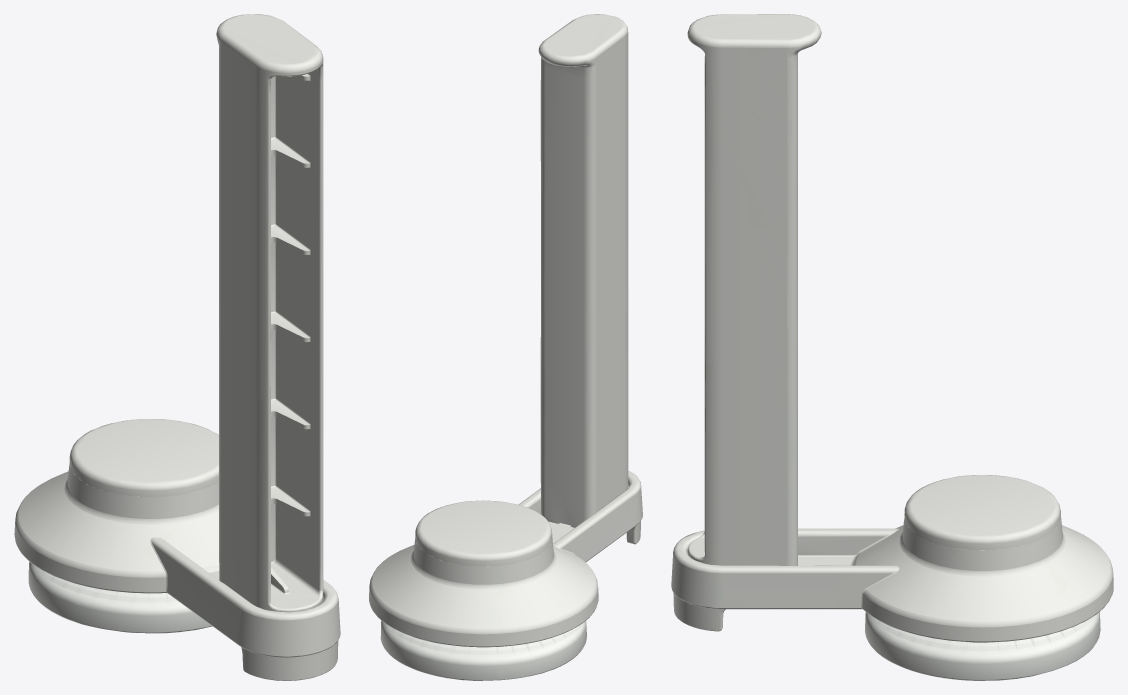
Rendered from 40381291-mini.glb.
3 views of the same model, side by side, from view 1: azimuth 30°, elevation 25°; view 2: azimuth 150°, elevation 25°; view 3: azimuth 270°, elevation 25° (orthographic). The views are drawn at different scales.
Parts seen in each view (by area): view 1: 1; view 2: 1, 2; view 3: 1.
Part boxes in pixels (x1=…): 1: x1=14, y1=14, x2=340, y2=680; 1: x1=369, y1=14, x2=642, y2=680; 2: x1=392, y1=629, x2=574, y2=654; 1: x1=671, y1=14, x2=1113, y2=680.
Size of the model in its own units: 0.0612 by 0.1555 by 0.1031.
2 materials, 1 textured.
